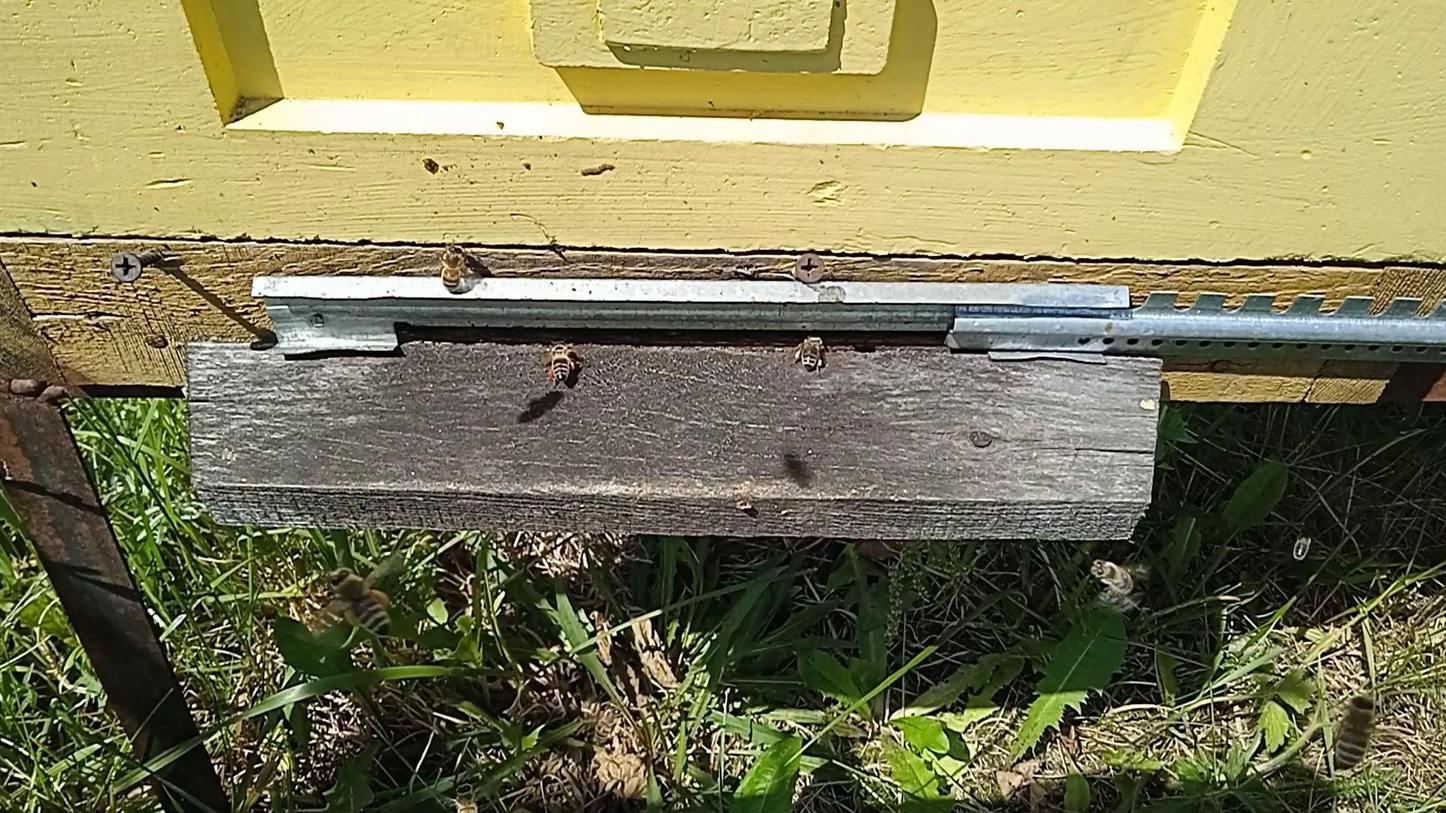worker-bee: (328, 567, 391, 635), (1333, 695, 1377, 770), (438, 244, 474, 295), (1087, 558, 1136, 594), (793, 330, 828, 373), (545, 340, 578, 385), (593, 700, 623, 744), (452, 782, 479, 813), (1292, 530, 1313, 561)
